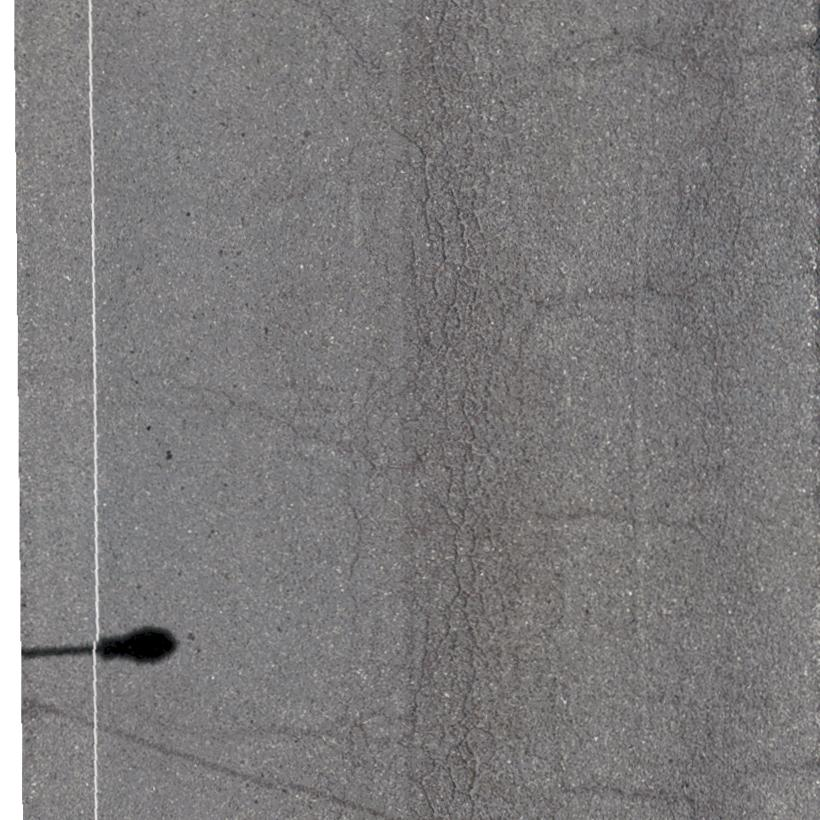GRIETA: (219, 404, 346, 450), (344, 473, 362, 624), (532, 508, 650, 528), (748, 30, 819, 60), (551, 291, 648, 311)
PIEL DE COCODRILO: (347, 0, 573, 819), (643, 0, 766, 558), (322, 623, 396, 799), (532, 32, 683, 102)
